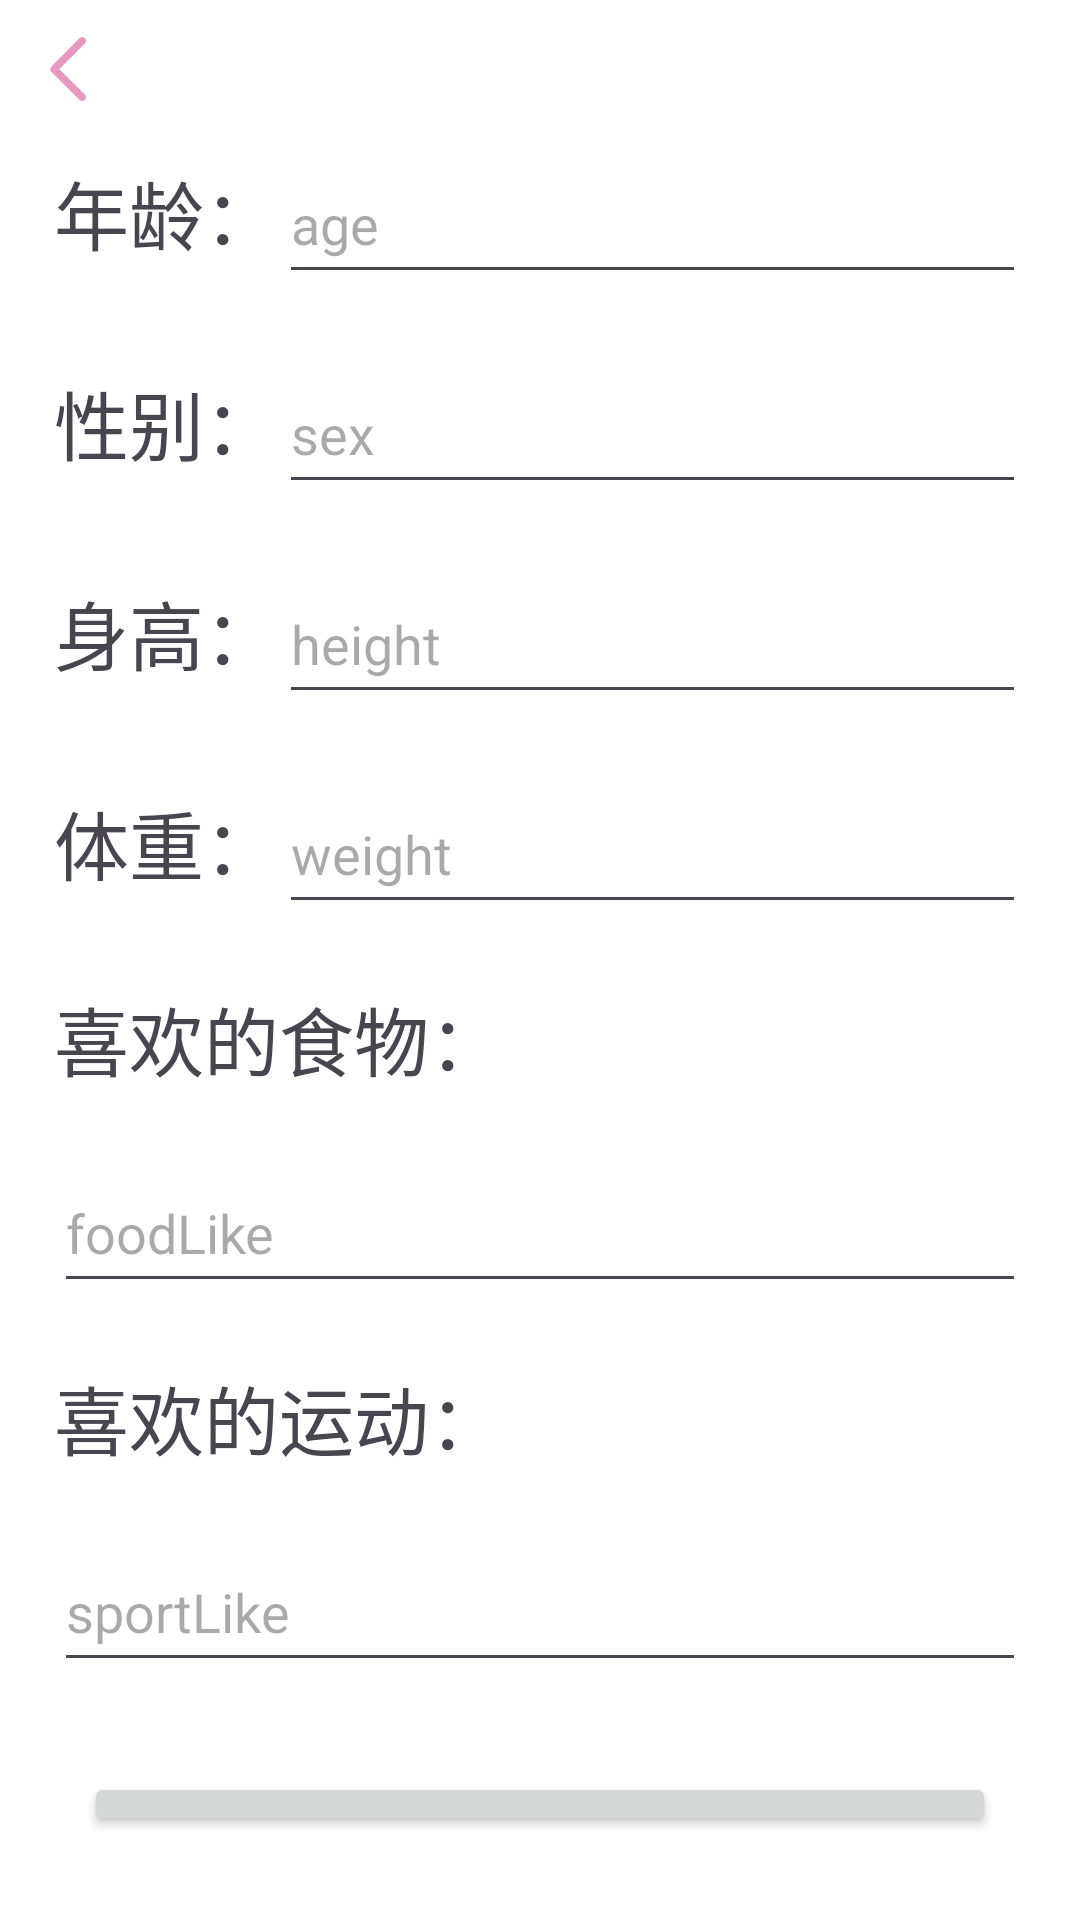

Icon bounding boxes for this 1080 x 1920 phone screenshot, format (left=x1, top=y1, right=x2, bottom=y2):
back: (left=50, top=37, right=86, bottom=101)
